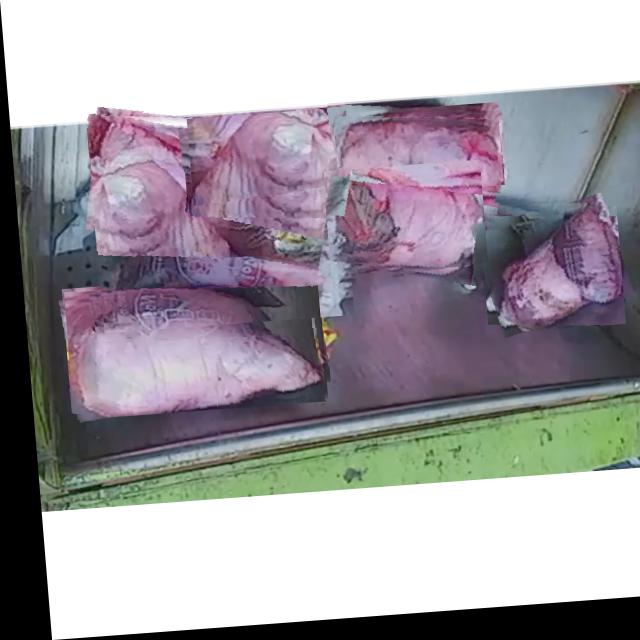other_trashbag: (88, 115, 333, 259), (61, 290, 319, 419), (97, 222, 346, 322), (323, 174, 482, 277), (492, 210, 617, 339), (191, 116, 352, 207), (336, 121, 499, 199)
